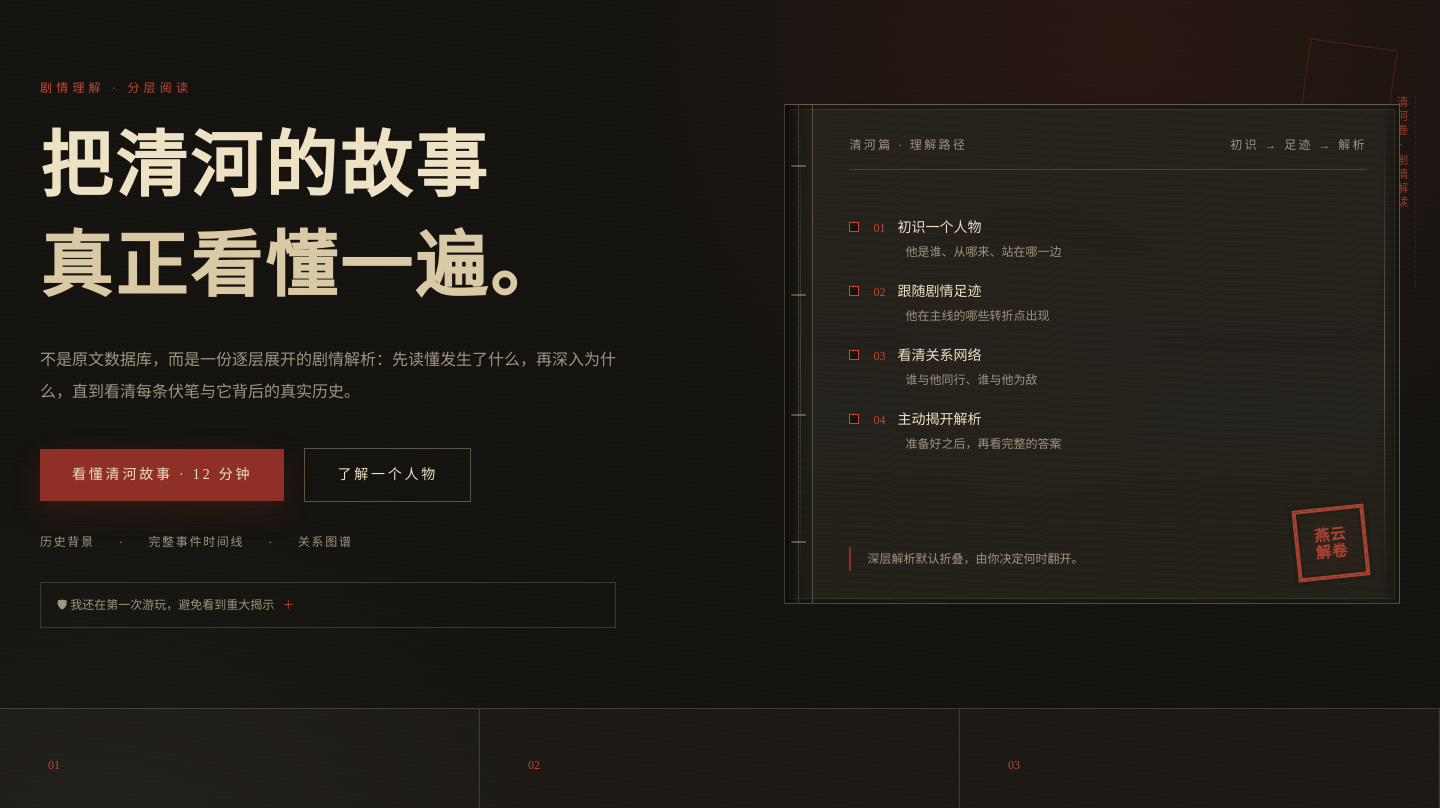
Test case: Home › keeps spoiler protection as a demoted optional control
Click the heading "🛡 我还在第一次游玩，避免看到重大揭示 ＋".
click(176, 605)  # box [57, 598, 294, 612]
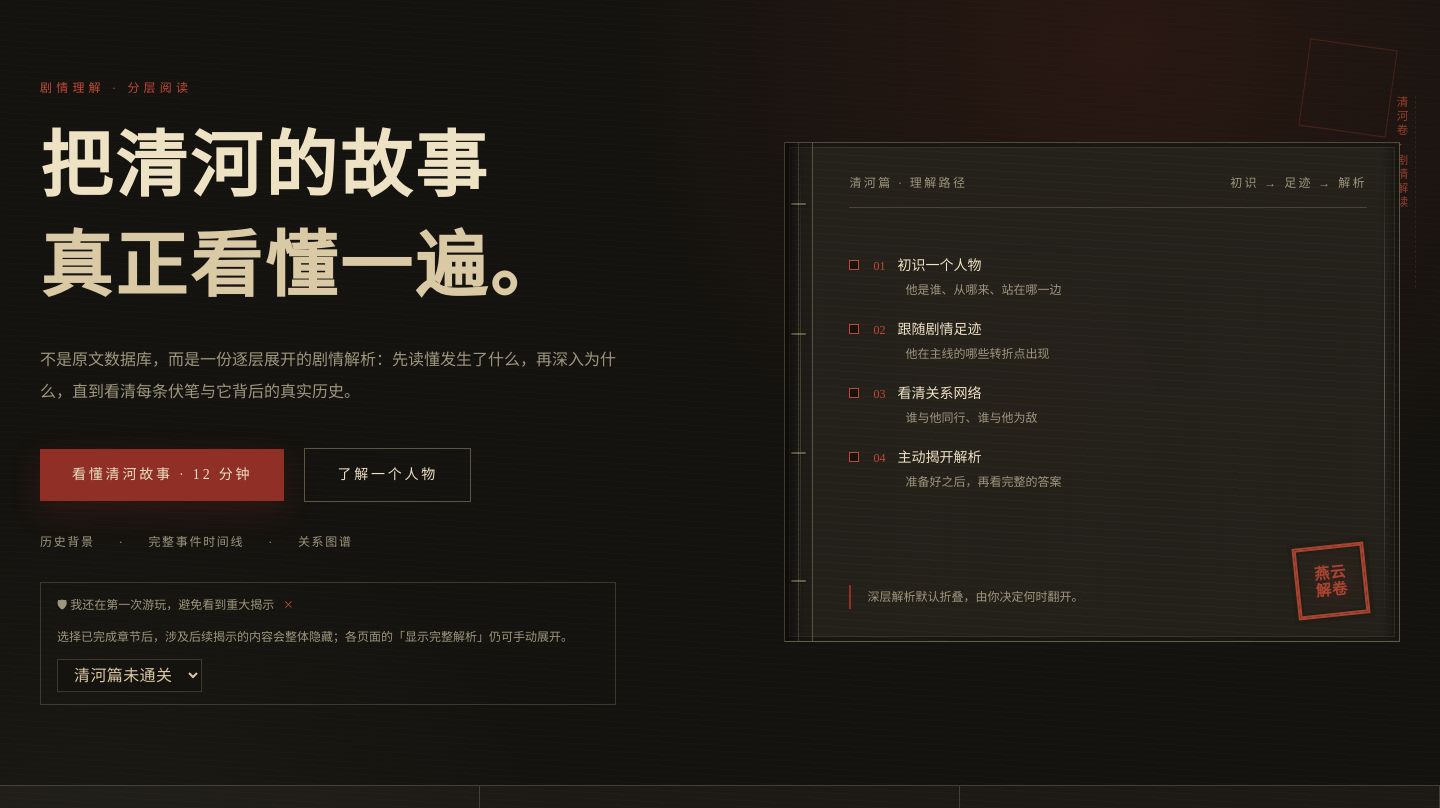
expect the text "选择已完成章节后，涉及后续揭示的内容会整体隐藏；各页面的「显示完整解析」仍可手动展开。" is shown: met, box [57, 627, 599, 647]
